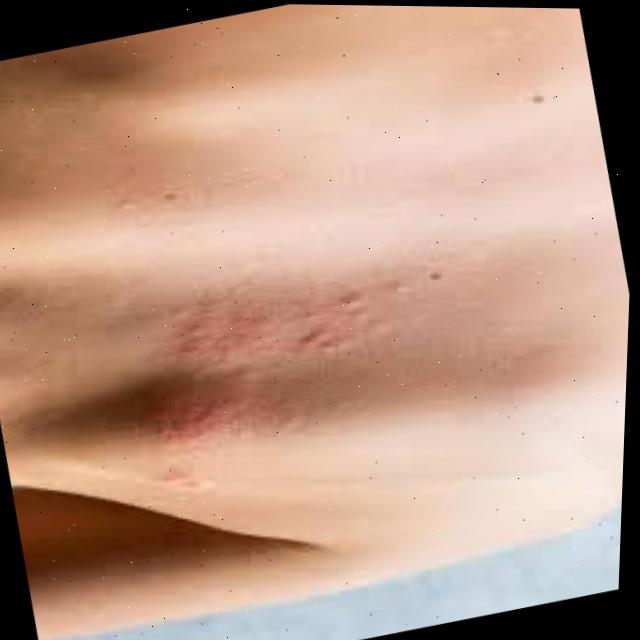Shingles: (102, 263, 425, 513)
